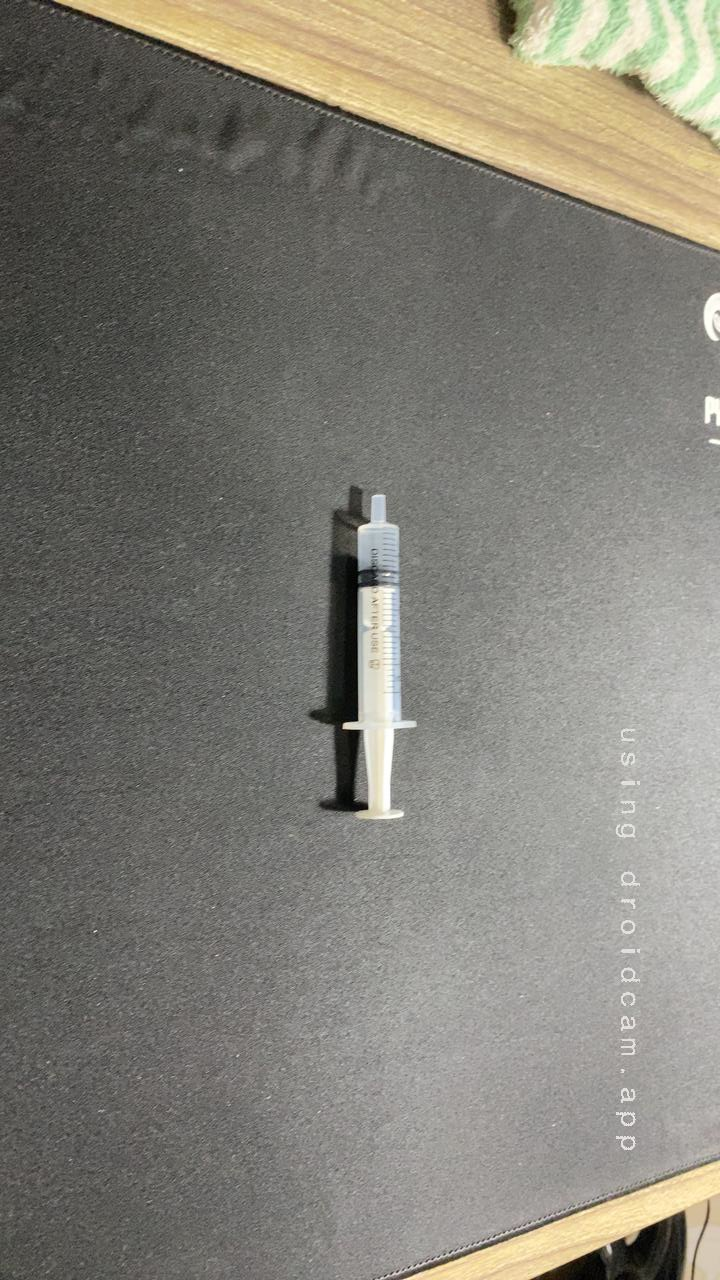syringe: (295, 472, 448, 846)
